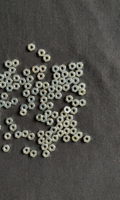nut: (28, 43, 36, 52), (43, 54, 51, 62), (76, 62, 84, 70), (52, 65, 60, 73), (59, 65, 67, 73), (35, 81, 43, 89), (55, 85, 63, 93), (72, 85, 80, 93), (66, 95, 74, 103), (72, 99, 80, 107), (28, 133, 36, 141), (70, 120, 78, 128), (63, 135, 71, 143), (38, 49, 46, 56), (5, 60, 12, 68), (12, 59, 19, 67), (69, 63, 77, 70), (23, 69, 31, 76), (32, 66, 40, 73), (40, 65, 47, 73), (37, 73, 45, 80), (4, 71, 11, 79), (54, 72, 61, 80), (69, 71, 76, 79), (26, 76, 34, 83), (13, 75, 21, 82), (5, 78, 13, 85), (6, 85, 14, 92), (24, 83, 32, 90), (42, 82, 50, 89), (66, 78, 73, 86), (73, 77, 80, 85), (48, 86, 56, 93), (63, 84, 70, 92), (55, 93, 63, 100), (1, 93, 9, 100), (28, 103, 36, 110), (4, 101, 11, 109), (40, 103, 47, 111), (47, 102, 54, 110), (80, 99, 87, 107), (71, 107, 78, 115), (66, 115, 74, 122), (52, 111, 59, 119), (46, 119, 54, 126), (6, 118, 14, 125), (10, 124, 17, 132), (4, 133, 12, 140), (15, 131, 22, 139), (22, 130, 29, 138), (23, 147, 30, 155), (30, 150, 37, 158), (37, 131, 45, 138), (50, 127, 58, 134), (45, 131, 53, 138), (70, 128, 78, 135), (72, 135, 80, 142), (64, 128, 71, 136), (57, 131, 65, 138), (45, 138, 53, 145), (41, 144, 49, 151), (9, 67, 16, 74), (62, 71, 69, 78), (76, 70, 83, 77), (19, 78, 26, 85), (13, 83, 20, 90), (52, 80, 59, 87), (59, 78, 66, 85), (79, 89, 86, 96), (32, 88, 39, 95), (40, 90, 47, 97), (48, 93, 55, 100), (23, 90, 30, 97), (28, 96, 35, 103), (20, 109, 27, 116), (11, 98, 18, 105), (41, 97, 48, 104), (64, 107, 71, 114), (61, 111, 68, 118), (45, 110, 52, 117), (36, 114, 43, 121), (41, 116, 48, 123), (57, 117, 64, 124), (3, 145, 10, 152), (38, 138, 45, 145), (63, 121, 70, 128), (84, 136, 91, 143), (76, 132, 83, 139), (52, 135, 59, 142), (49, 145, 56, 152), (43, 151, 50, 158), (0, 81, 6, 89), (56, 124, 64, 130), (79, 83, 86, 89), (20, 105, 28, 110), (0, 100, 5, 108), (0, 74, 5, 81)
